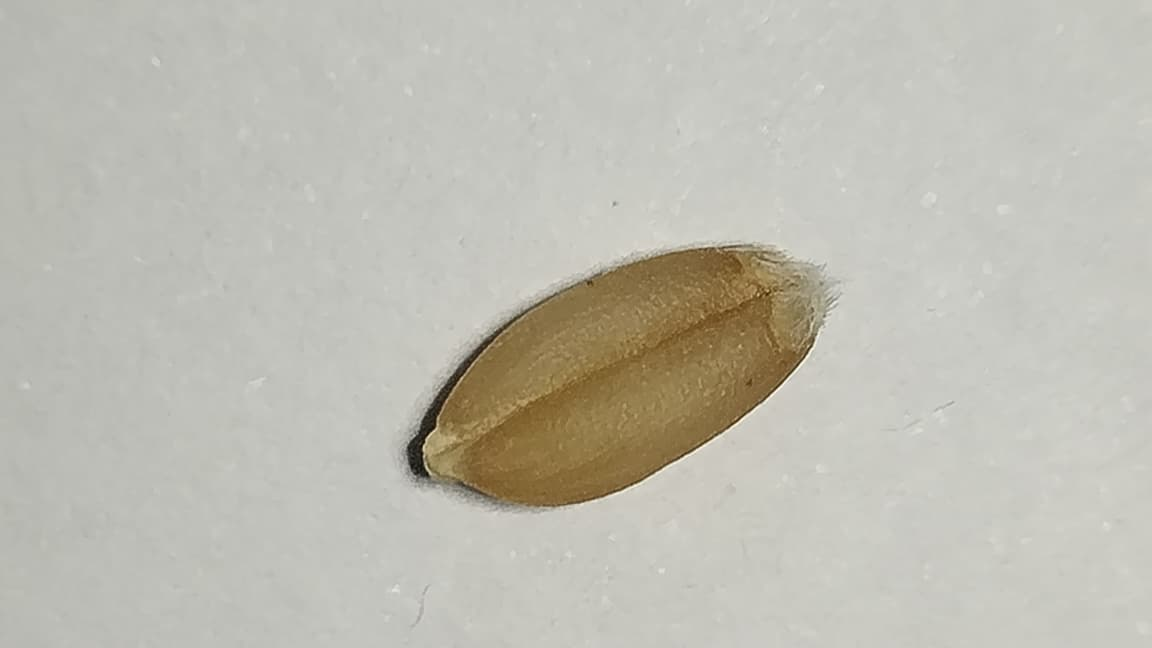healthy: (423, 244, 825, 504)
